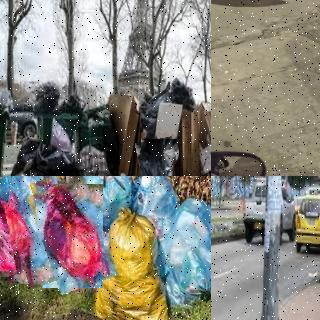Garbage: (89, 209, 174, 320), (35, 181, 111, 292), (0, 176, 75, 286), (150, 191, 211, 303), (130, 176, 185, 240), (71, 176, 135, 227), (0, 180, 21, 278), (138, 137, 182, 176), (27, 79, 64, 114), (27, 166, 87, 176)
